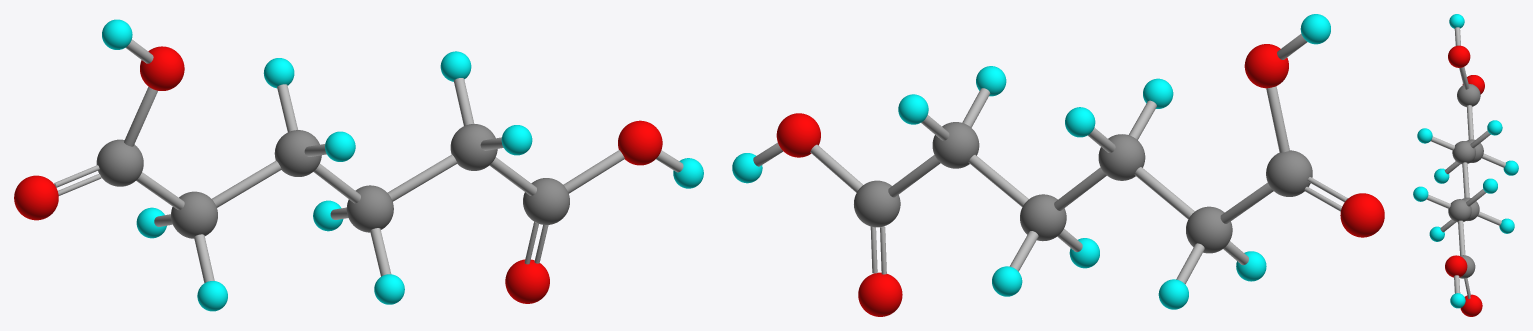
Rendered from adipic acid.glb.
The picture shows the model from 3 angles, left to right: view 1: azimuth 30°, elevation 25°; view 2: azimuth 150°, elevation 25°; view 3: azimuth 270°, elevation 25°; orthographic projection. The views are drawn at different scales.
Parts seen in each view (by area): view 1: CMAtom_13, CMAtom_12, CMAtom_6, CMAtom_0, CMAtom_14, CMAtom_9, CMAtom_1, CMAtom_16, CMAtom_15, CMAtom_17, CMBond_9_Segment_0, CMBond_1_Segment_0 (+19 smaller); view 2: CMAtom_13, CMAtom_12, CMAtom_0, CMAtom_6, CMAtom_1, CMAtom_9, CMAtom_14, CMAtom_15, CMAtom_16, CMAtom_17, CMBond_9_Segment_0, CMBond_1_Segment_0 (+19 smaller); view 3: CMAtom_1, CMAtom_9, CMAtom_13, CMAtom_17, CMAtom_16, CMAtom_15, CMBond_6_Segment_0, CMBond_12_Segment_0, CMAtom_12, CMBond_13_Segment_0, CMAtom_14, CMAtom_4 (+22 smaller).
Part boxes in pixels (x1,y1,x2,y2): CMAtom_13: [96, 139, 143, 186]; CMAtom_12: [523, 178, 569, 224]; CMAtom_6: [346, 185, 393, 232]; CMAtom_0: [171, 191, 217, 238]; CMAtom_14: [14, 175, 58, 220]; CMAtom_9: [450, 124, 497, 170]; CMAtom_1: [274, 130, 321, 176]; CMAtom_16: [618, 120, 662, 165]; CMAtom_15: [505, 259, 549, 303]; CMAtom_17: [140, 46, 184, 90]; CMBond_9_Segment_0: [387, 154, 457, 201]; CMBond_1_Segment_0: [212, 160, 281, 207]; CMAtom_13: [1266, 150, 1312, 196]; CMAtom_12: [854, 180, 900, 227]; CMAtom_0: [1186, 206, 1232, 253]; CMAtom_6: [1020, 194, 1066, 241]; CMAtom_1: [1098, 134, 1145, 180]; CMAtom_9: [932, 122, 979, 168]; CMAtom_14: [1340, 193, 1384, 237]; CMAtom_15: [858, 272, 902, 316]; CMAtom_16: [776, 113, 820, 157]; CMAtom_17: [1244, 44, 1288, 88]; CMBond_9_Segment_0: [968, 154, 1028, 207]; CMBond_1_Segment_0: [1134, 167, 1194, 219]; CMAtom_1: [1452, 141, 1475, 163]; CMAtom_9: [1448, 199, 1471, 222]; CMAtom_13: [1457, 84, 1480, 106]; CMAtom_17: [1448, 45, 1470, 67]; CMAtom_16: [1445, 255, 1467, 277]; CMAtom_15: [1460, 294, 1482, 316]; CMBond_6_Segment_0: [1462, 162, 1469, 197]; CMBond_12_Segment_0: [1458, 220, 1465, 255]; CMAtom_12: [1459, 255, 1475, 278]; CMBond_13_Segment_0: [1466, 105, 1473, 139]; CMAtom_14: [1462, 75, 1484, 94]; CMAtom_4: [1417, 128, 1432, 143].
Size of the model in its own units: 10.09 by 5.7 by 2.76.
